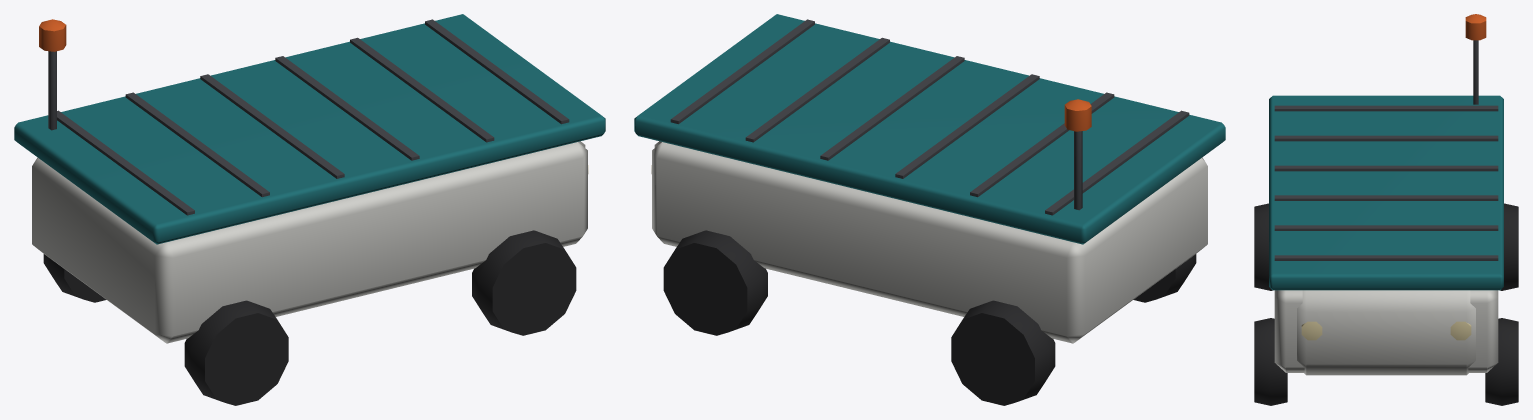
Rendered from GolfCartFL.fbx.
The picture shows the model from 3 angles, left to right: view 1: azimuth 30°, elevation 25°; view 2: azimuth 150°, elevation 25°; view 3: azimuth 270°, elevation 25°; orthographic projection. The views are drawn at different scales.
Visible parts, largest first — view 1: GolfCartFL; view 2: GolfCartFL; view 3: GolfCartFL.
Part boxes in pixels (x1,y1,x2,y2): GolfCartFL: [14, 14, 605, 405]; GolfCartFL: [634, 14, 1225, 405]; GolfCartFL: [1254, 14, 1518, 405].
Size of the model in its own units: 2.31 by 1.47 by 1.42.
